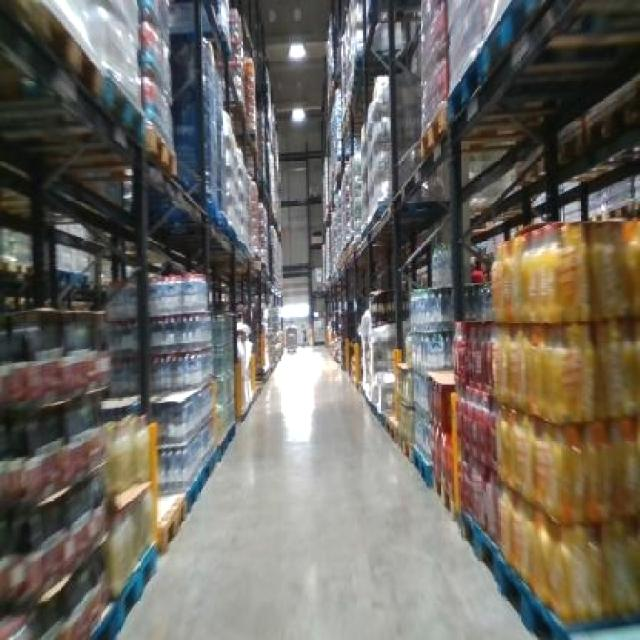pallets: (323, 0, 637, 637)
